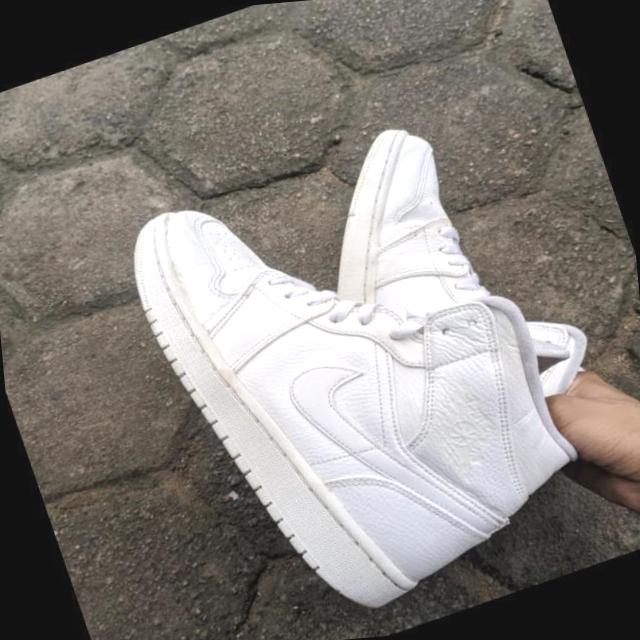nike_fake_jordan: (95, 91, 640, 640)
